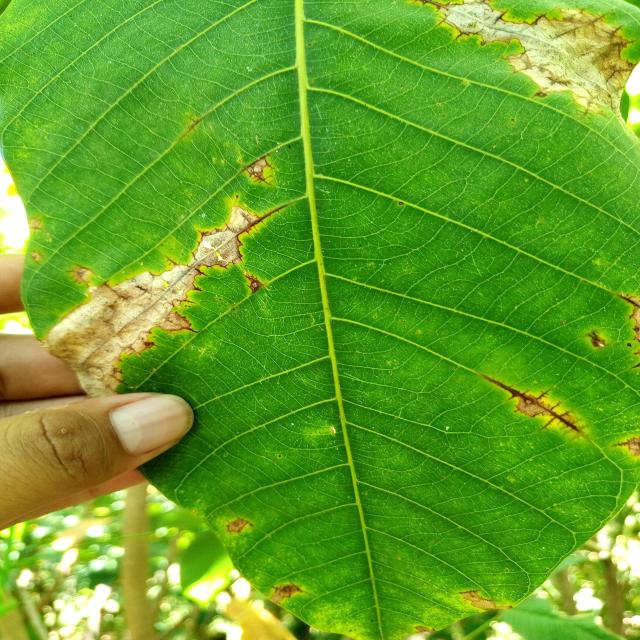Colletotrichum: (538, 92, 548, 97), (628, 63, 634, 67), (627, 343, 632, 347)
Corynespora: (480, 374, 589, 440), (224, 204, 287, 244), (237, 153, 276, 186), (65, 262, 94, 286), (271, 582, 303, 598), (412, 0, 451, 12), (244, 272, 264, 293), (575, 102, 594, 121), (616, 294, 640, 308), (548, 29, 570, 41), (547, 76, 571, 87), (589, 12, 608, 25), (529, 13, 547, 25), (604, 26, 624, 36), (433, 15, 448, 28), (494, 10, 508, 23), (616, 39, 638, 46), (166, 255, 180, 266), (612, 439, 629, 447), (454, 32, 466, 40), (196, 269, 208, 277), (191, 284, 203, 292), (459, 590, 479, 594), (184, 299, 197, 304), (187, 328, 198, 333)
Leaf-Blight: (40, 206, 258, 402), (444, 2, 637, 124), (461, 592, 513, 610), (630, 296, 640, 343), (626, 438, 640, 456)
